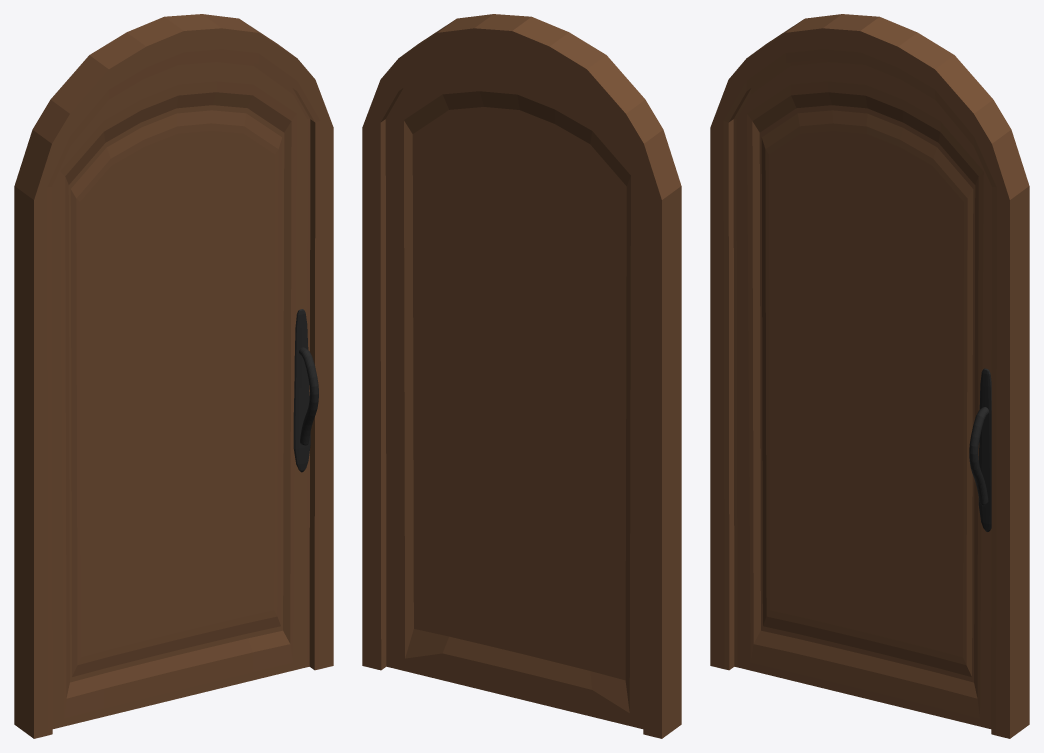
File: puerta.fbx
3 renders of one model, left to right at view 1: azimuth 30°, elevation 25°; view 2: azimuth 150°, elevation 25°; view 3: azimuth 330°, elevation 25°, orthographic.
Visible parts, largest first — view 1: puerta, puerta.001, picaporte; view 2: puerta.001, puerta; view 3: puerta, puerta.001, picaporte.
Boxes of the visible parts, bbox=[...] form: puerta: bbox=[14, 14, 333, 683]; puerta.001: bbox=[14, 15, 333, 738]; picaporte: bbox=[293, 309, 318, 472]; puerta.001: bbox=[362, 14, 681, 738]; puerta: bbox=[362, 15, 681, 738]; puerta: bbox=[710, 14, 1029, 738]; puerta.001: bbox=[710, 16, 1029, 738]; picaporte: bbox=[969, 368, 991, 531].
Bounding box in the file's own units: 957 × 2050 × 168.
